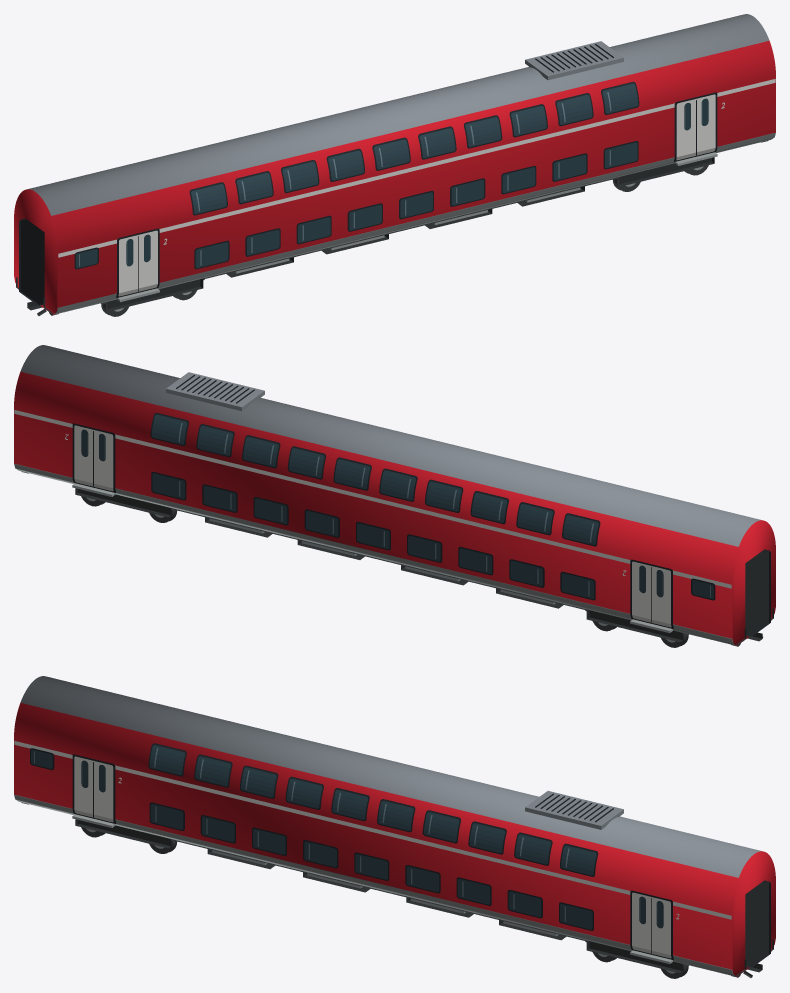
Rendered from second_class.glb.
The picture shows the model from 3 angles, top to bottom: view 1: azimuth 30°, elevation 25°; view 2: azimuth 150°, elevation 25°; view 3: azimuth 330°, elevation 25°; orthographic projection.
Visible parts, largest first — view 1: r3_continuous_rounded_shell.001, r3_skirt_second_class_-1, r3_white_belt_second_class_-1, r3_door_leaf_second_class_-1_0, r3_door_leaf_second_class_-1_1, r3_low_profile_hvac.001, r3_bellows_second_class_-1_4, r3_second_class_bogie_0_sideframe_-1, r3_second_class_bogie_1_sideframe_-1, r3_second_class_upper_-1_1_pane, r3_second_class_upper_-1_5_pane, r3_second_class_upper_-1_8_pane (+17 smaller); view 2: r3_continuous_rounded_shell.001, r3_skirt_second_class_1, r3_white_belt_second_class_1, r3_door_leaf_second_class_1_0, r3_door_leaf_second_class_1_1, r3_low_profile_hvac.001, r3_bellows_second_class_-1_4, r3_second_class_bogie_0, r3_second_class_bogie_1, r3_second_class_upper_1_1_pane, r3_second_class_upper_1_5_pane, r3_second_class_upper_1_8_pane (+17 smaller); view 3: r3_continuous_rounded_shell.001, r3_skirt_second_class_-1, r3_white_belt_second_class_-1, r3_door_leaf_second_class_-1_1, r3_door_leaf_second_class_-1_0, r3_low_profile_hvac.001, r3_bellows_second_class_1_4, r3_second_class_bogie_1_sideframe_-1, r3_second_class_bogie_0_sideframe_-1, r3_second_class_upper_-1_0_pane, r3_second_class_upper_-1_3_pane, r3_second_class_upper_-1_7_pane (+17 smaller).
Part boxes in pixels (left/top/right/bottom): r3_continuous_rounded_shell.001: left=14, top=14, right=775, bottom=314; r3_skirt_second_class_-1: left=57, top=133, right=775, bottom=312; r3_white_belt_second_class_-1: left=58, top=79, right=775, bottom=257; r3_door_leaf_second_class_-1_0: left=118, top=230, right=157, bottom=296; r3_door_leaf_second_class_-1_1: left=676, top=94, right=715, bottom=160; r3_low_profile_hvac.001: left=525, top=41, right=623, bottom=80; r3_bellows_second_class_-1_4: left=19, top=219, right=39, bottom=305; r3_second_class_bogie_0_sideframe_-1: left=107, top=278, right=203, bottom=310; r3_second_class_bogie_1_sideframe_-1: left=619, top=157, right=714, bottom=186; r3_second_class_upper_-1_1_pane: left=237, top=173, right=272, bottom=202; r3_second_class_upper_-1_5_pane: left=419, top=128, right=455, bottom=158; r3_second_class_upper_-1_8_pane: left=557, top=94, right=592, bottom=124; r3_continuous_rounded_shell.001: left=14, top=345, right=775, bottom=645; r3_skirt_second_class_1: left=14, top=464, right=732, bottom=643; r3_white_belt_second_class_1: left=14, top=410, right=731, bottom=588; r3_door_leaf_second_class_1_0: left=632, top=561, right=671, bottom=627; r3_door_leaf_second_class_1_1: left=74, top=425, right=113, bottom=491; r3_low_profile_hvac.001: left=166, top=372, right=264, bottom=411; r3_bellows_second_class_-1_4: left=750, top=550, right=770, bottom=636; r3_second_class_bogie_0: left=586, top=609, right=688, bottom=647; r3_second_class_bogie_1: left=75, top=488, right=176, bottom=522; r3_second_class_upper_1_1_pane: left=517, top=504, right=552, bottom=533; r3_second_class_upper_1_5_pane: left=334, top=459, right=370, bottom=489; r3_second_class_upper_1_8_pane: left=197, top=425, right=232, bottom=455; r3_continuous_rounded_shell.001: left=14, top=676, right=775, bottom=976; r3_skirt_second_class_-1: left=14, top=795, right=732, bottom=974; r3_white_belt_second_class_-1: left=14, top=741, right=731, bottom=919; r3_door_leaf_second_class_-1_1: left=632, top=892, right=671, bottom=958; r3_door_leaf_second_class_-1_0: left=74, top=756, right=113, bottom=822; r3_low_profile_hvac.001: left=525, top=791, right=623, bottom=829; r3_bellows_second_class_1_4: left=750, top=881, right=770, bottom=967; r3_second_class_bogie_1_sideframe_-1: left=586, top=940, right=682, bottom=972; r3_second_class_bogie_0_sideframe_-1: left=75, top=819, right=170, bottom=848; r3_second_class_upper_-1_0_pane: left=149, top=745, right=185, bottom=775; r3_second_class_upper_-1_3_pane: left=286, top=778, right=322, bottom=808; r3_second_class_upper_-1_7_pane: left=469, top=823, right=505, bottom=853.
Bounding box in the file's own units: 26.96 × 4.76 × 3.04.
